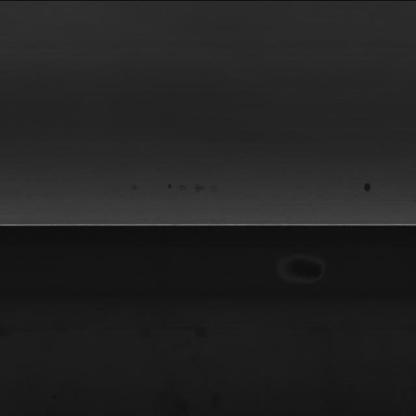oil_spot: (128, 175, 218, 195), (351, 175, 383, 198)
